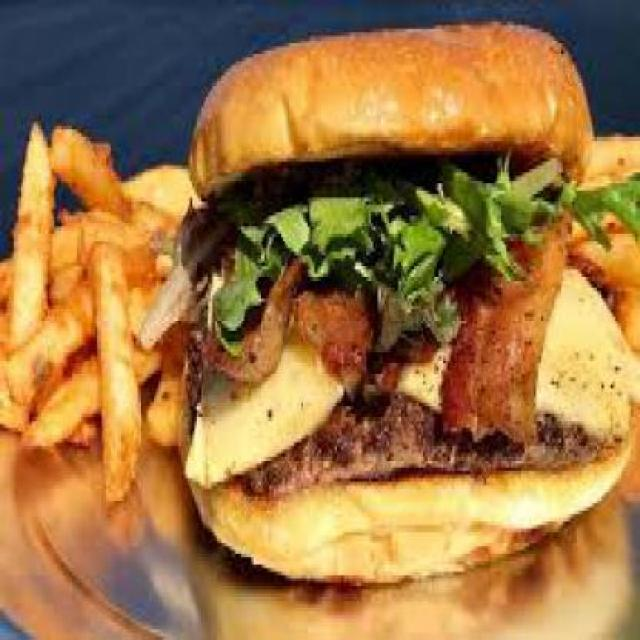hamburger: (188, 15, 629, 579)
